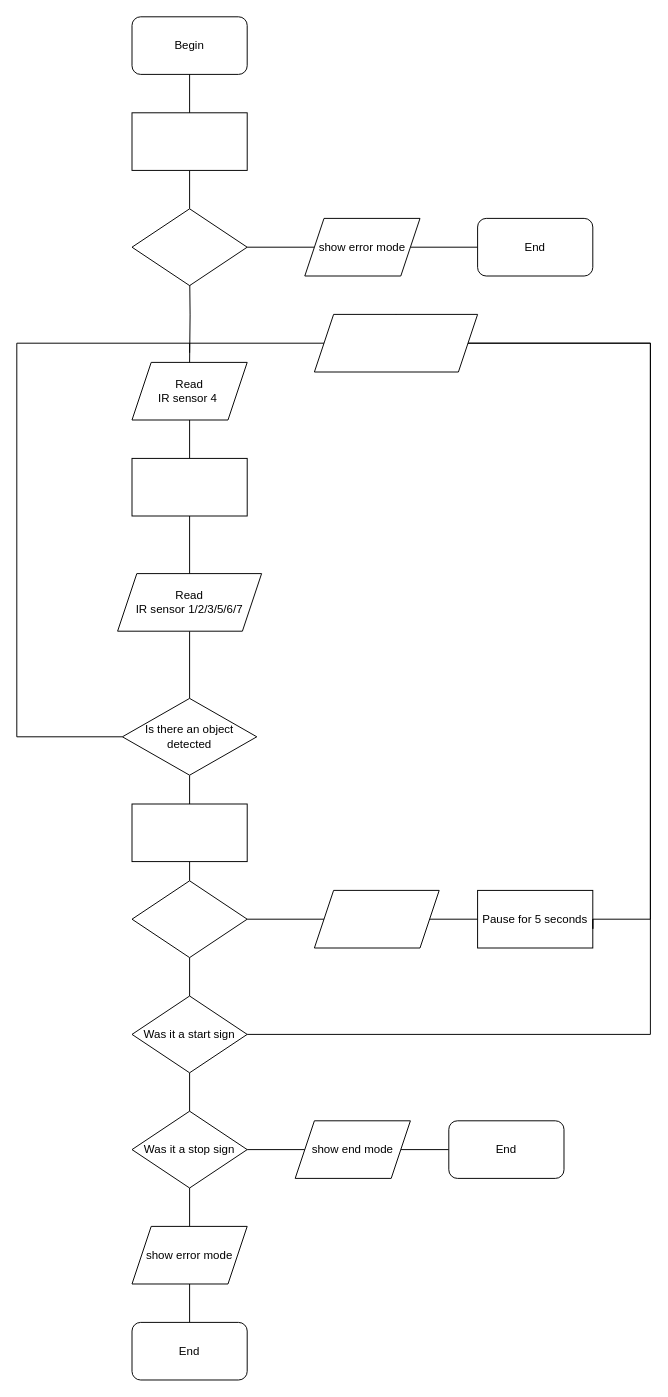
Some shapes in this 668 by 1397 pixel diagram are drawn without their labels. The shapes that lost their labels are listed below. From the top down, each one's centre as x and y in pixels, then its label:
pixel 189 141: Drive and scan
pixel 189 247: was there a start object recognized
pixel 395 342: Show Line following mode
pixel 189 486: Adjust to Line thats read by the sensor
pixel 189 832: Drive and scan the object
pixel 189 919: Was it a pause sign
pixel 376 918: show pause mode
